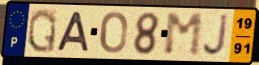8: (133, 10, 161, 56)
A: (54, 10, 91, 53)
J: (201, 13, 230, 59)
M: (163, 12, 204, 58)
O: (99, 10, 129, 55)
Q: (26, 7, 59, 55)
